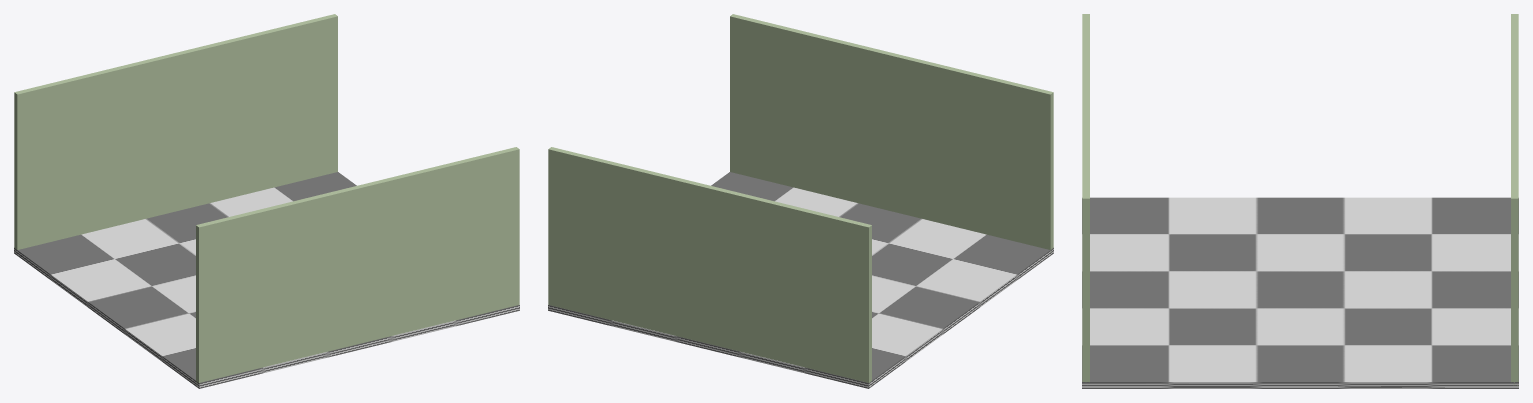
Rendered from Stage.fbx.
3 views of the same model, side by side, from view 1: azimuth 30°, elevation 25°; view 2: azimuth 150°, elevation 25°; view 3: azimuth 270°, elevation 25° (orthographic). The views are drawn at different scales.
Visible parts, largest first — view 1: Cube.001, Cube; view 2: Cube.001, Cube; view 3: Cube, Cube.001.
Part boxes in pixels (bbox=[...]): Cube.001: bbox=[14, 14, 519, 384]; Cube: bbox=[14, 172, 519, 388]; Cube.001: bbox=[548, 14, 1053, 384]; Cube: bbox=[548, 172, 1053, 388]; Cube: bbox=[1082, 197, 1518, 388]; Cube.001: bbox=[1082, 14, 1518, 385].
Bounding box in the file's own units: 1196 × 575 × 1196.
Materials: 2 (2 with a texture image).
